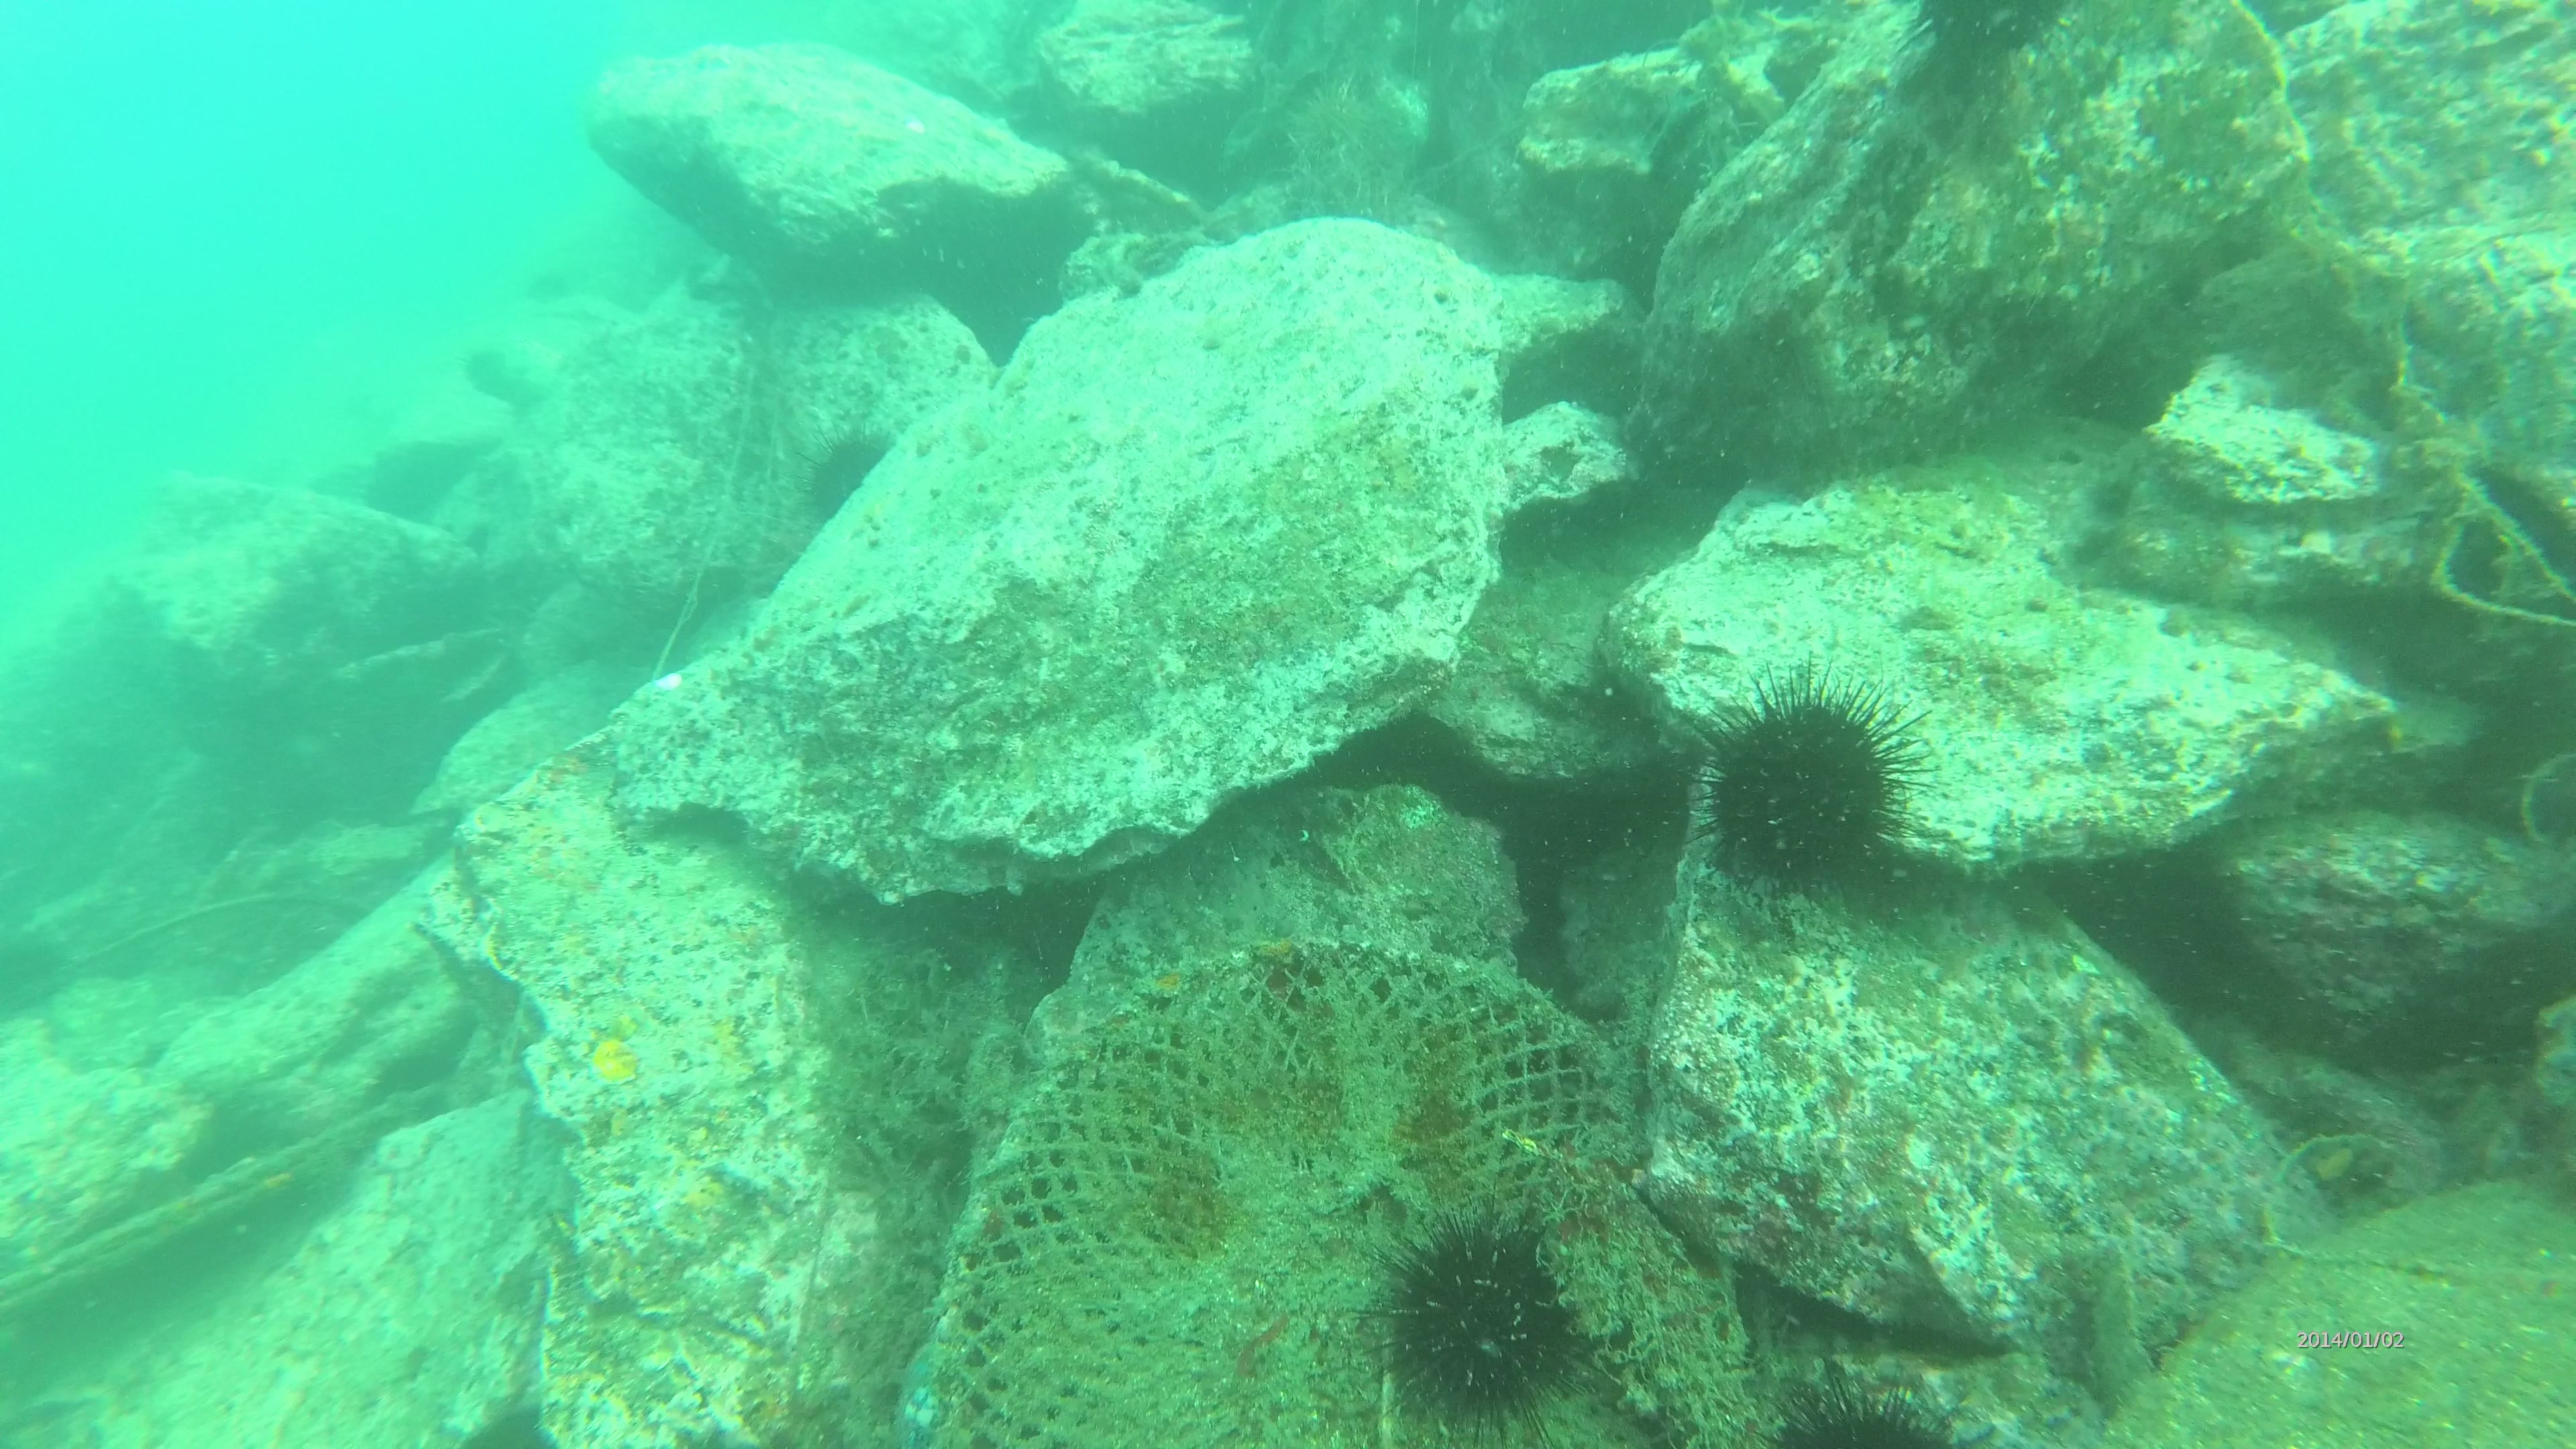echinus: (1679, 658, 1943, 916), (1352, 1212, 1598, 1437), (1762, 1375, 2001, 1449), (786, 421, 901, 525), (1284, 83, 1371, 165)
scallop: (589, 1033, 648, 1090)
